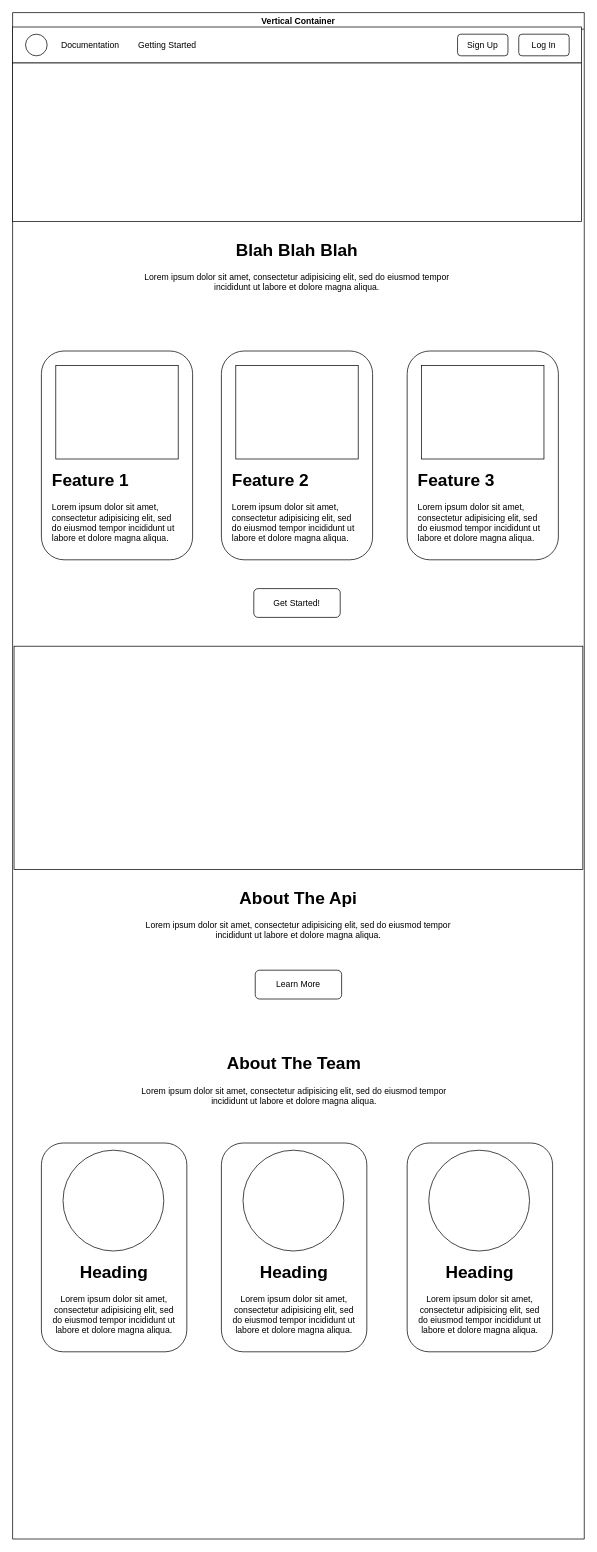
Image size: 597x1552. Some labels were removed from this diagram. Here are the shapes that lost their labels. From the top down, the centre of each, then its label:
the point at 296,141: Image
the point at 298,757: another image
